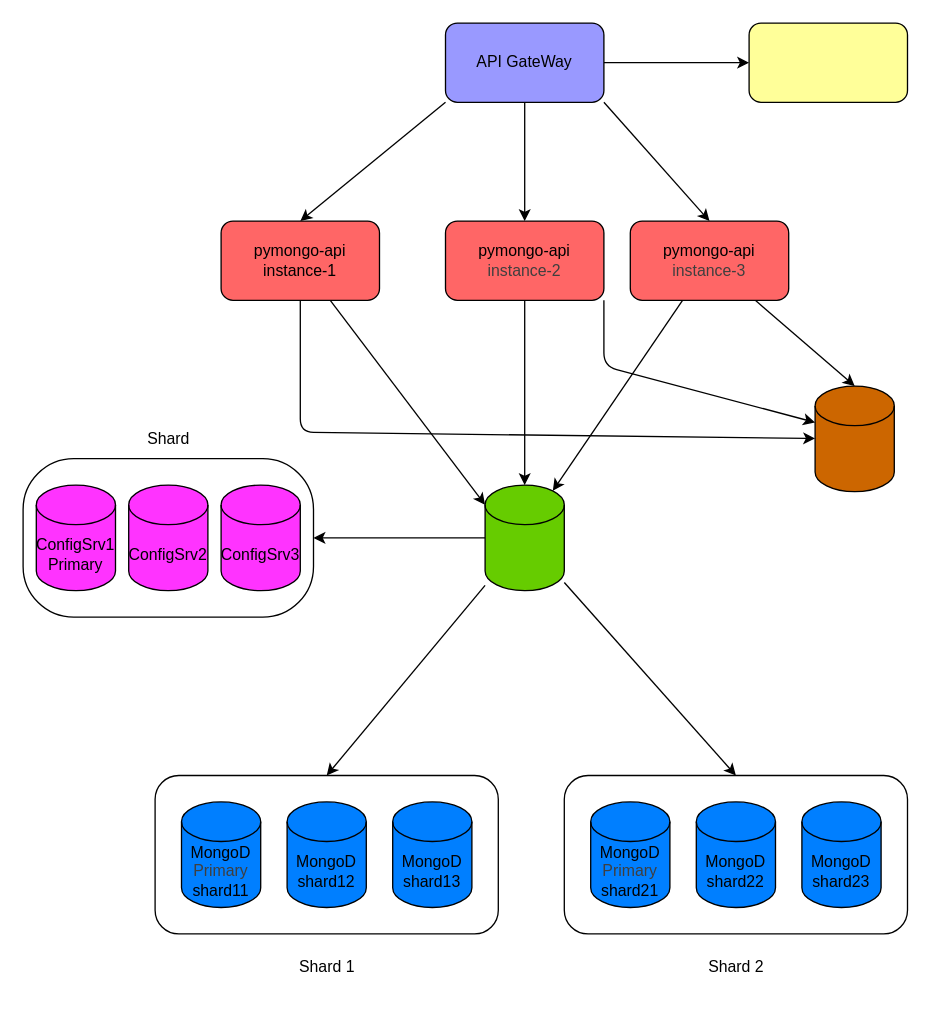
This 931x1010 diagram has some shape labels left out. The centre of each missing label's shape, as x and y in pixels:
Consul Service Discovery: point (828, 62)
MongoS: point (524, 537)
Redis Кэш: point (854, 438)
